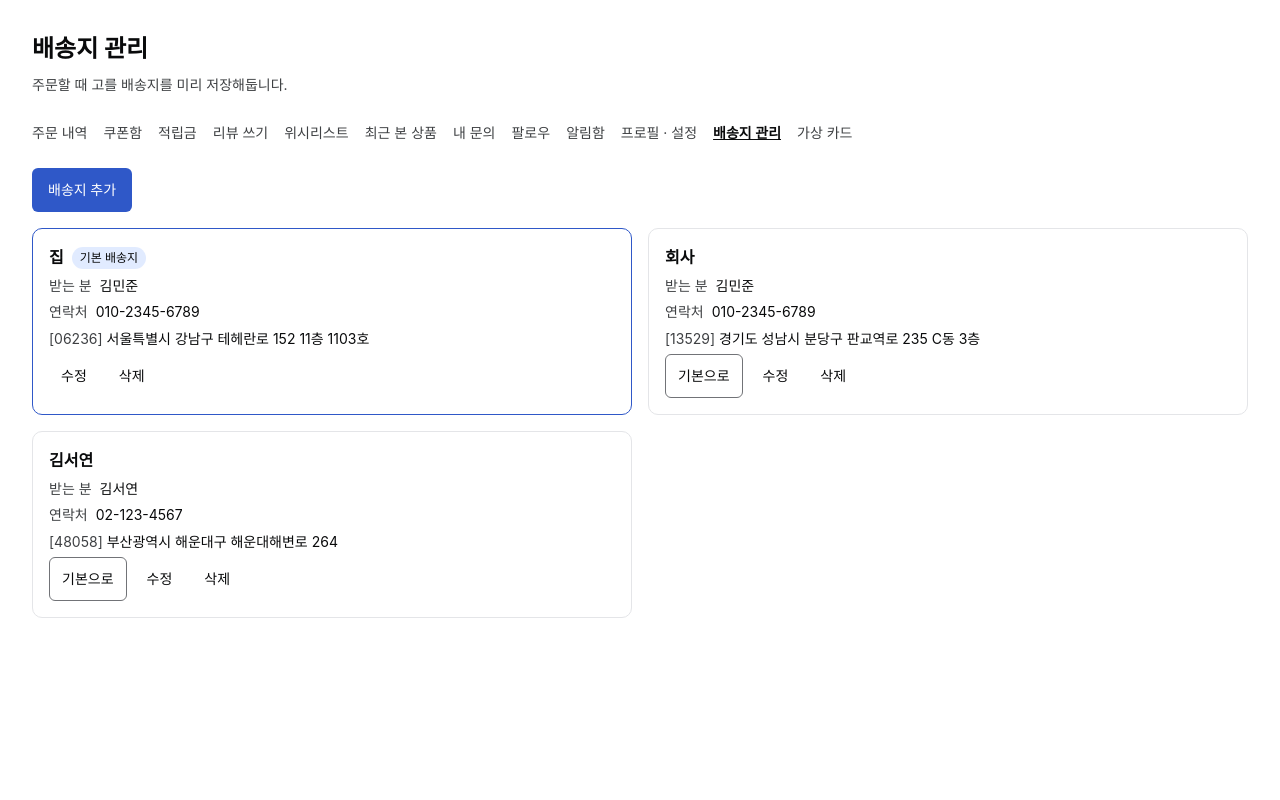
Scenario: making another address the default (F4) › moves the badge and says so
Check: the list named "저장한 배송지" is shown, box [32,228,1248,618]
Click the button "기본으로" below "13529".
click(704, 376)  # box [665,354,742,398]
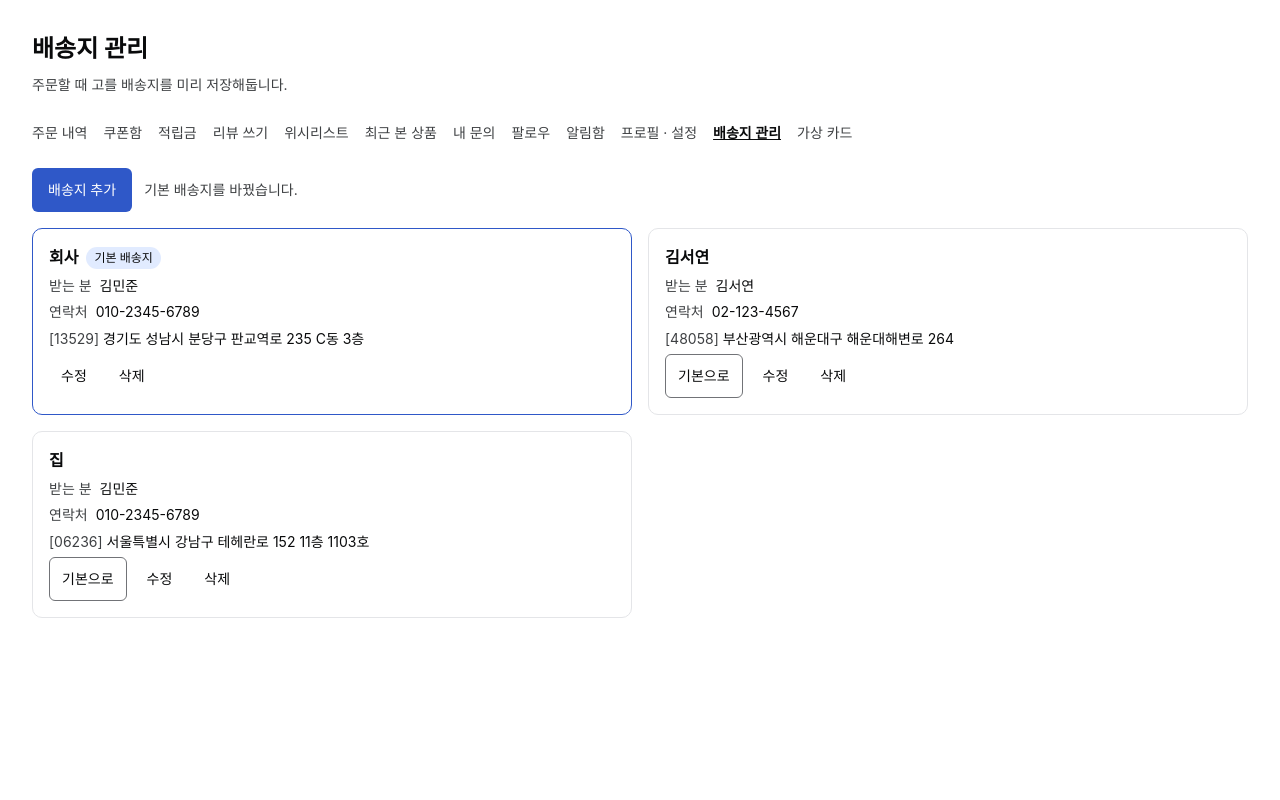
Check: the heading "회사" is shown, box [49,245,78,271]
Check: the text "기본 배송지를 바꿨습니다." is shown, box [144,179,298,202]
